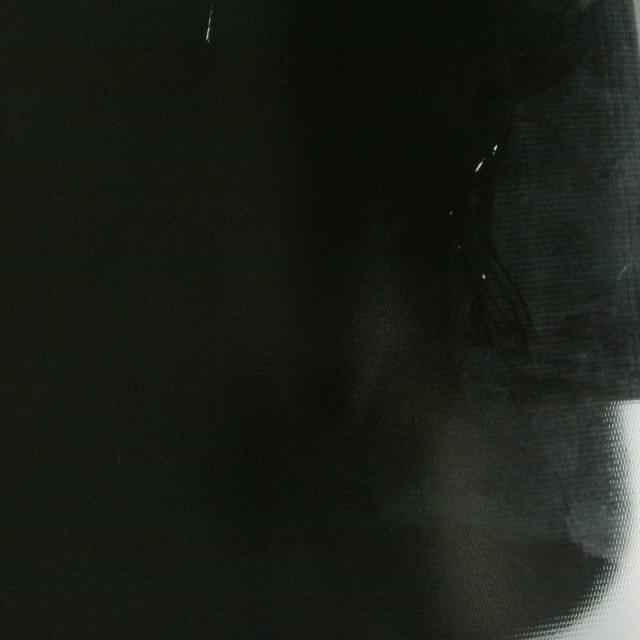very small scratch: (466, 135, 506, 185), (200, 3, 218, 45)
